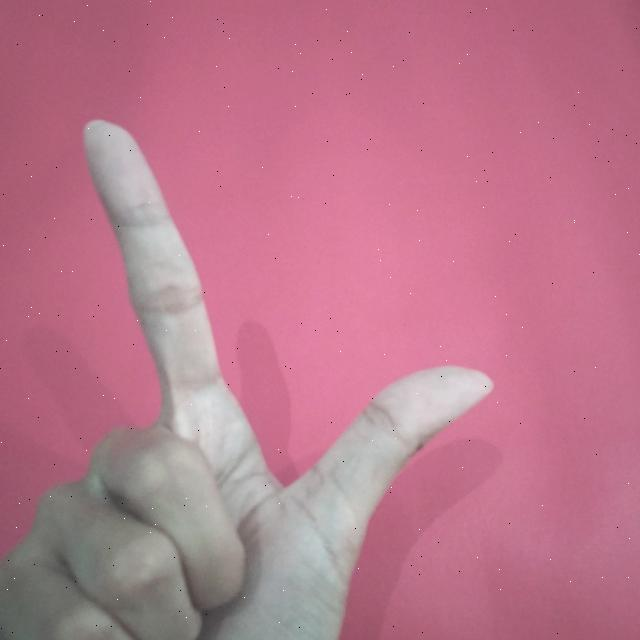L: (0, 106, 512, 640)
